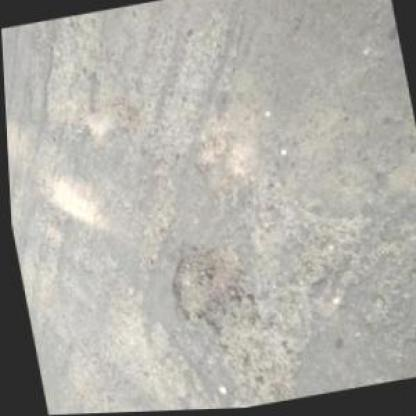pothole: (158, 235, 250, 338), (284, 205, 376, 290), (189, 134, 230, 174)
